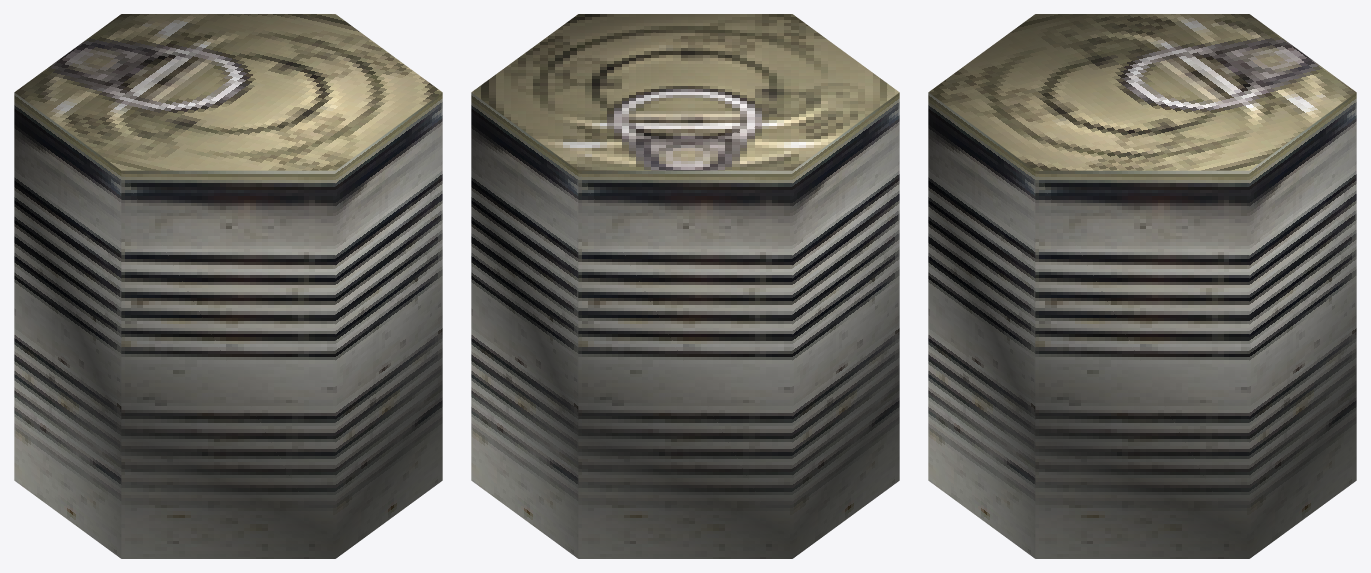
File: tin_1.glb
3 views of the same model, side by side, from view 1: azimuth 30°, elevation 25°; view 2: azimuth 150°, elevation 25°; view 3: azimuth 270°, elevation 25° (orthographic).
Parts seen in each view (by area): view 1: Tin_1; view 2: Tin_1; view 3: Tin_1.
Part boxes in pixels (x1,y1,x2,y2): Tin_1: [14, 14, 442, 558]; Tin_1: [471, 14, 899, 558]; Tin_1: [928, 14, 1356, 558].
Size of the model in its own units: 0.2849 by 0.329 by 0.329.
1 material, 1 textured.
